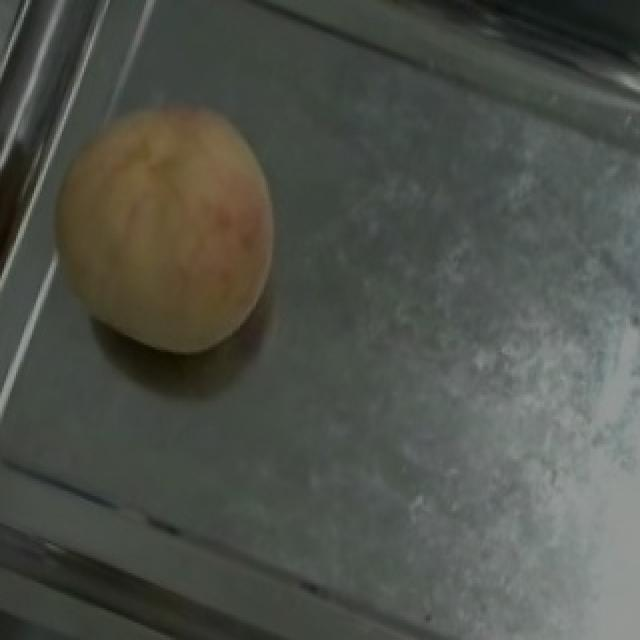Fruit: (4, 57, 328, 397)
